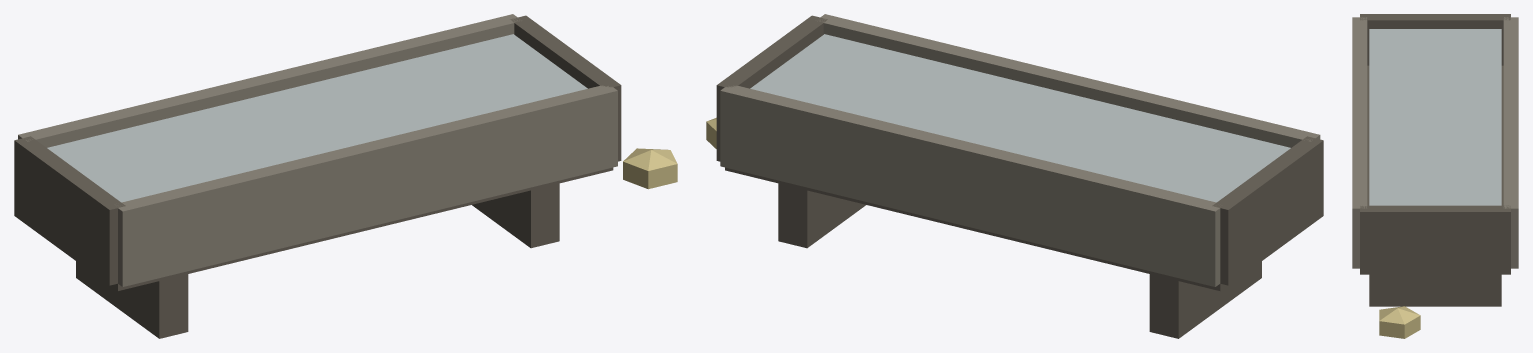
Rendered from a3h_brine_trough.glb.
3 renders of one model, left to right at view 1: azimuth 30°, elevation 25°; view 2: azimuth 150°, elevation 25°; view 3: azimuth 270°, elevation 25°, orthographic. The views are drawn at different scales.
Visible parts, largest first — view 1: a3h_brine_trough; view 2: a3h_brine_trough; view 3: a3h_brine_trough.
Part boxes in pixels (x1,y1,x2,y2): a3h_brine_trough: (14, 14, 677, 338); a3h_brine_trough: (706, 14, 1323, 338); a3h_brine_trough: (1352, 14, 1518, 338).
Size of the model in its own units: 2.86 by 0.68 by 0.88.
